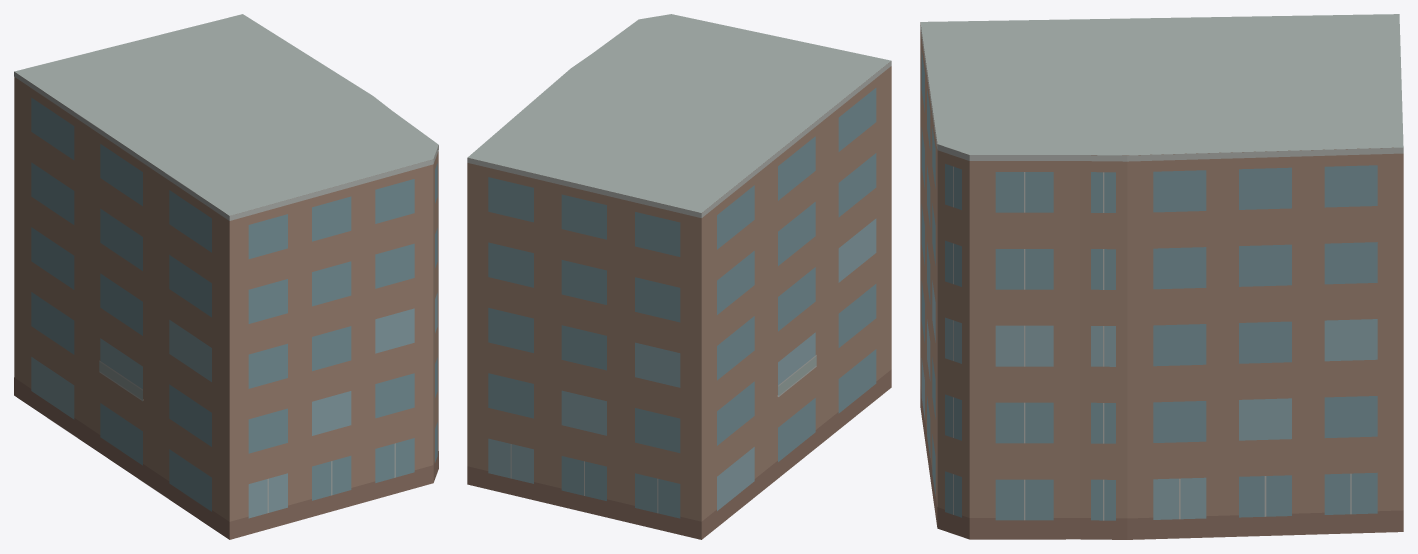
Rendered from survey-upis-33037483.glb.
3 views of the same model, side by side, from view 1: azimuth 30°, elevation 25°; view 2: azimuth 150°, elevation 25°; view 3: azimuth 270°, elevation 25° (orthographic). The views are drawn at different scales.
Visible parts, largest first — view 1: survey-upis-33037483.tmp; view 2: survey-upis-33037483.tmp; view 3: survey-upis-33037483.tmp.
Part boxes in pixels (<box>): survey-upis-33037483.tmp: <box>14,14,438,539</box>; survey-upis-33037483.tmp: <box>467,14,891,539</box>; survey-upis-33037483.tmp: <box>920,14,1403,539</box>.
Bounding box in the file's own units: 12.16 × 15.4 × 17.55.
